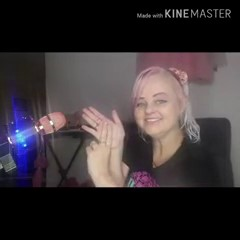N: (76, 102, 130, 172)
